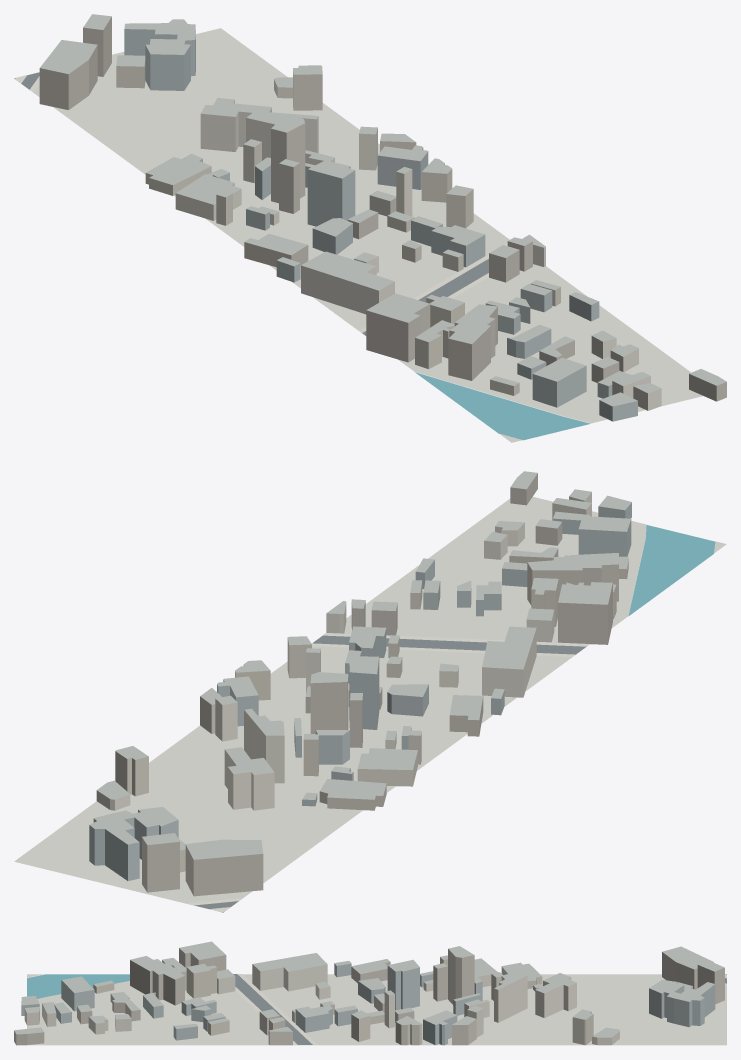
3 views of the same model, one above another, from view 1: azimuth 30°, elevation 25°; view 2: azimuth 150°, elevation 25°; view 3: azimuth 270°, elevation 25° (orthographic). The views are drawn at different scales.
Visible parts, largest first — view 1: city; view 2: city; view 3: city.
Part boxes in pixels (left/top/right/bottom): city: left=14, top=14, right=726, bottom=442; city: left=14, top=471, right=726, bottom=912; city: left=14, top=941, right=726, bottom=1045.
Bounding box in the file's own units: 129 × 40.48 × 509.
